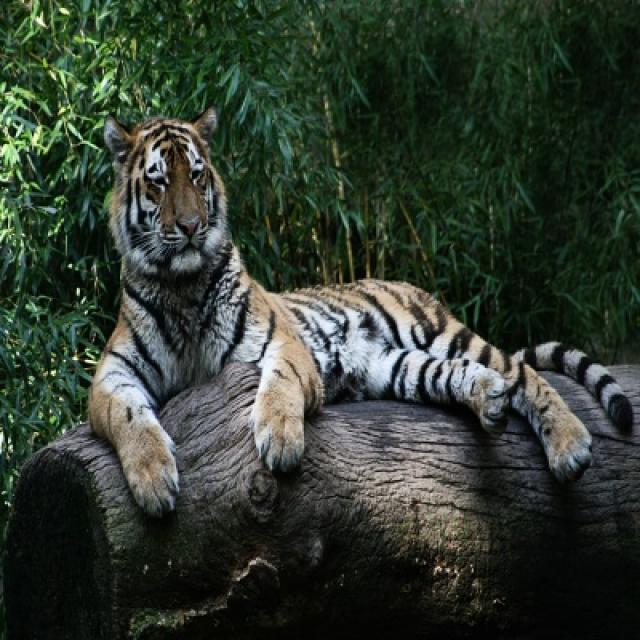Tiger: (92, 112, 634, 508)
